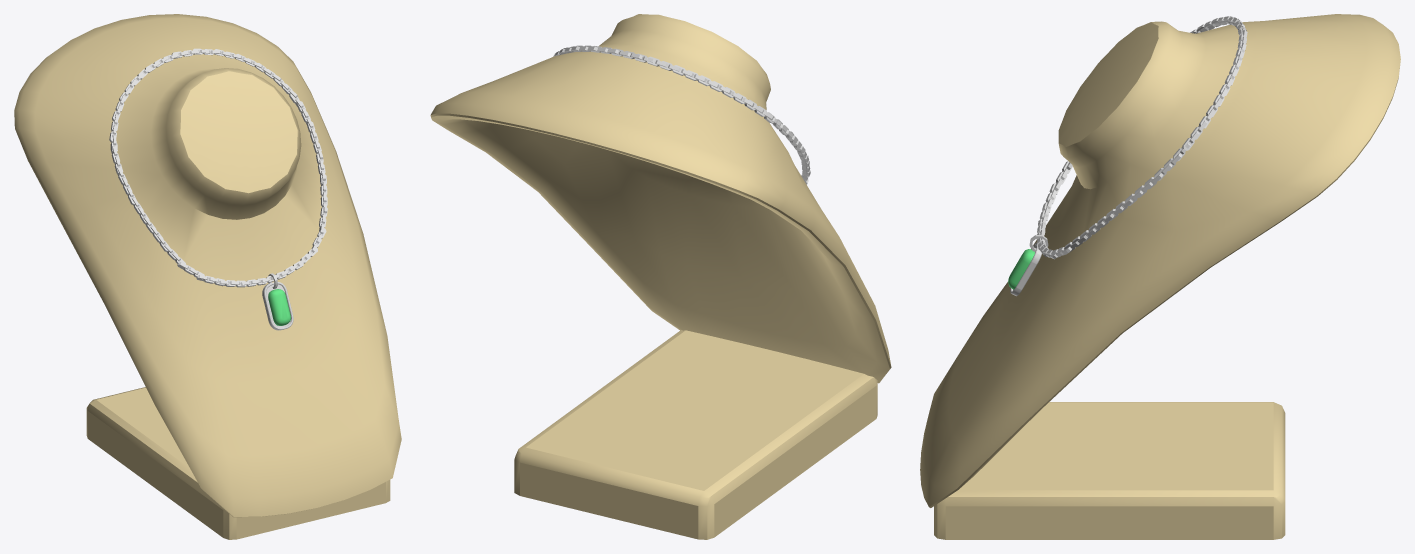
File: Necklace_20.fbx
The picture shows the model from 3 angles, left to right: view 1: azimuth 30°, elevation 25°; view 2: azimuth 150°, elevation 25°; view 3: azimuth 270°, elevation 25°; orthographic projection. The views are drawn at different scales.
Visible parts, largest first — view 1: SM_Stand_Necklace_9, SM_Necklace_10, SM_Cullon_7; view 2: SM_Stand_Necklace_9, SM_Necklace_10; view 3: SM_Stand_Necklace_9, SM_Necklace_10, SM_Cullon_7.
Boxes of the visible parts, x1=… form: SM_Stand_Necklace_9: x1=14, y1=14, x2=401, y2=539; SM_Necklace_10: x1=109, y1=48, x2=327, y2=287; SM_Cullon_7: x1=262, y1=273, x2=293, y2=330; SM_Stand_Necklace_9: x1=430, y1=14, x2=891, y2=539; SM_Necklace_10: x1=553, y1=45, x2=810, y2=184; SM_Stand_Necklace_9: x1=920, y1=14, x2=1400, y2=539; SM_Necklace_10: x1=1036, y1=16, x2=1247, y2=259; SM_Cullon_7: x1=1008, y1=235, x2=1048, y2=296.
Size of the model in its own units: 22.51 by 29.29 by 27.78.
